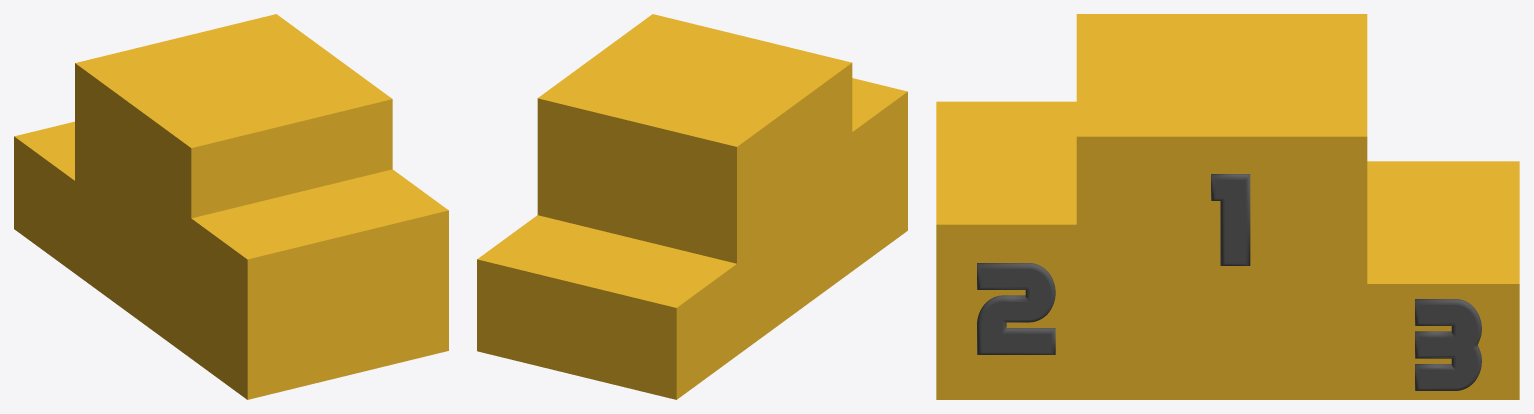
File: platform.fbx
3 renders of one model, left to right at view 1: azimuth 30°, elevation 25°; view 2: azimuth 150°, elevation 25°; view 3: azimuth 270°, elevation 25°, orthographic. The views are drawn at different scales.
Parts seen in each view (by area): view 1: Cube; view 2: Cube; view 3: Cube, 2, 3, 1.
Part boxes in pixels (x1,y1,x2,y2): Cube: (14, 14, 448, 399); Cube: (477, 14, 907, 399); Cube: (936, 14, 1519, 399); 2: (977, 263, 1055, 354); 3: (1415, 299, 1481, 390); 1: (1211, 174, 1250, 265).
Bounding box in the file's own units: 206 × 200 × 402.
